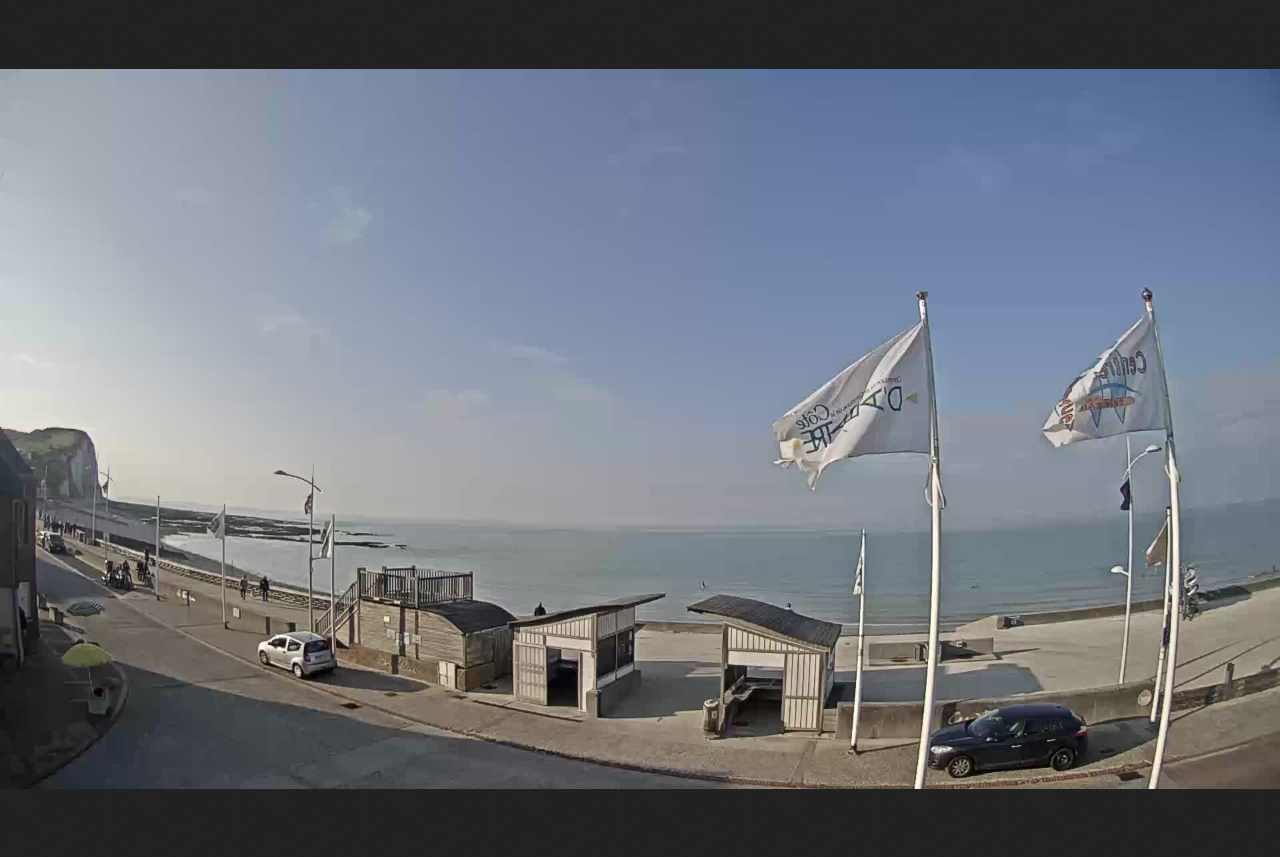maybe: (315, 515, 340, 563)
no: (848, 527, 870, 604)
yes: (748, 312, 950, 490), (1020, 311, 1186, 452), (200, 509, 233, 545)
